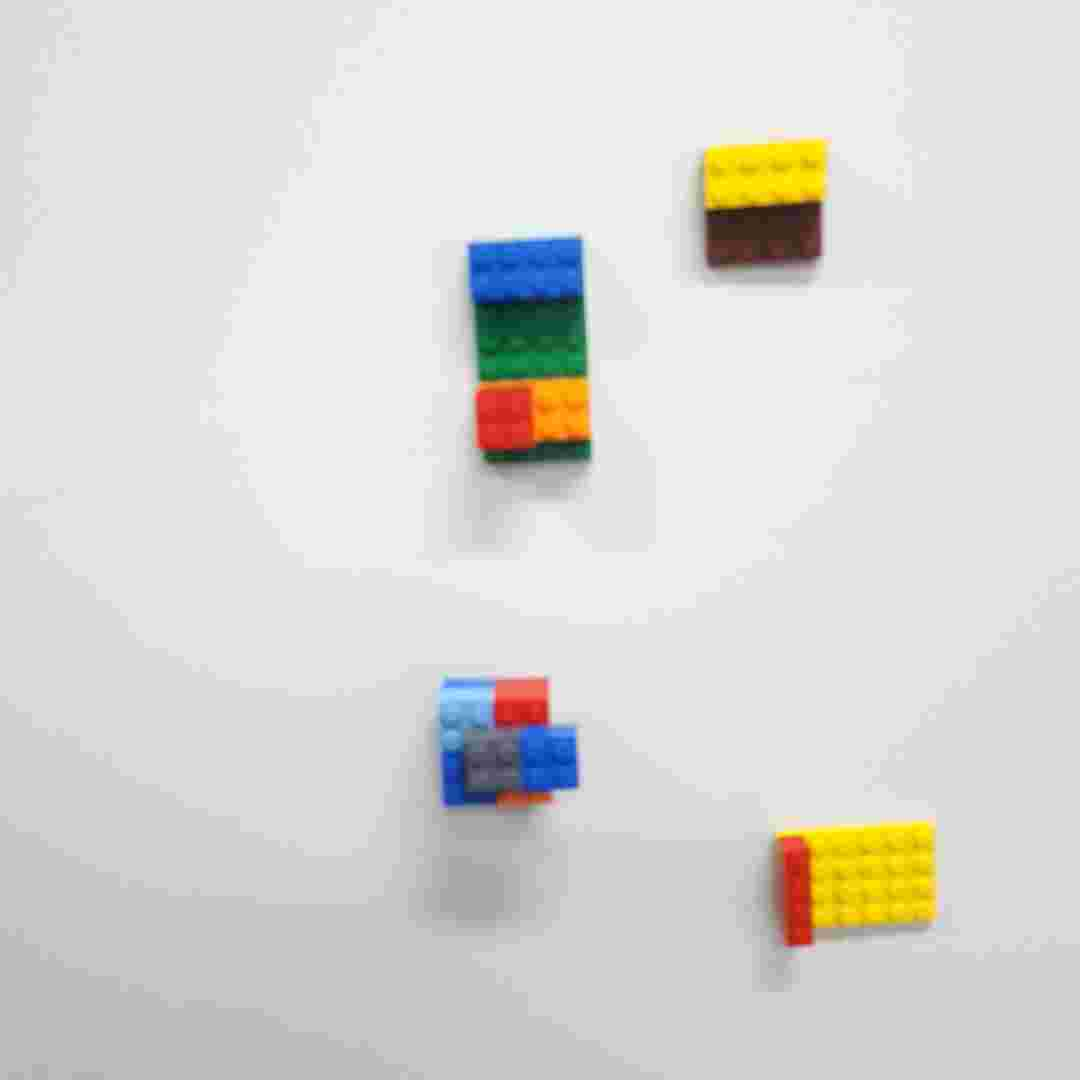LEGO: (462, 228, 604, 469), (768, 819, 951, 953), (435, 668, 587, 816), (696, 128, 835, 279)
